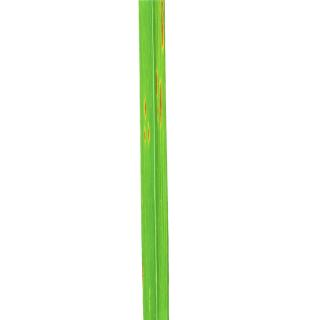Bercak-Cokelat-Sempit: (157, 0, 167, 56), (140, 123, 154, 149), (159, 78, 165, 128), (142, 95, 150, 121), (154, 65, 158, 99)
